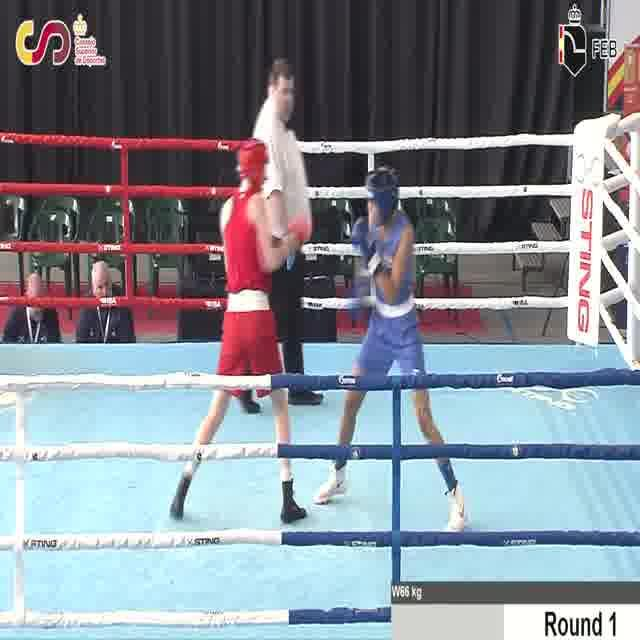blue-player: (309, 167, 470, 535)
red-player: (168, 137, 312, 525)
referee: (234, 52, 326, 415)
